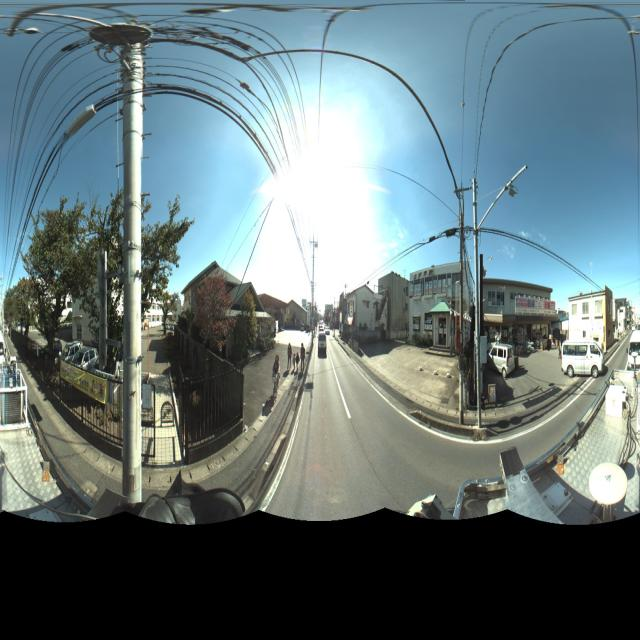b_1: (481, 274, 556, 354), (409, 251, 467, 346), (566, 283, 614, 353), (347, 283, 389, 338), (381, 266, 409, 338), (276, 294, 312, 334), (614, 294, 631, 346)
b_2: (62, 228, 175, 374), (173, 248, 275, 385), (24, 255, 78, 360)
